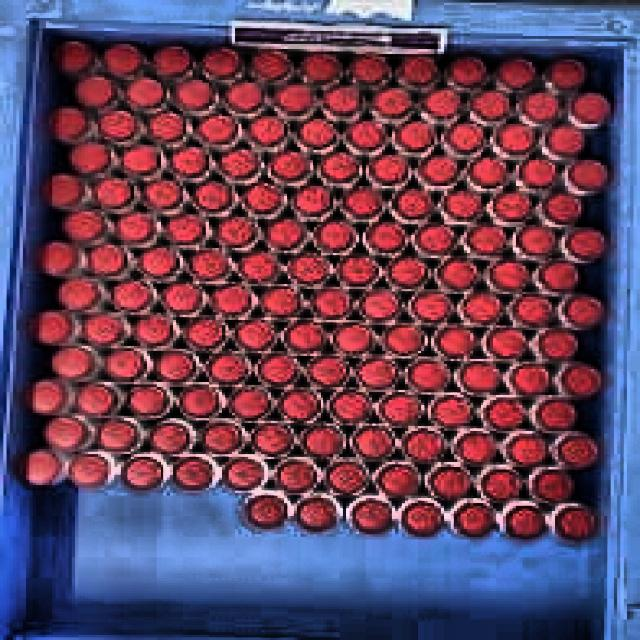vial: (478, 465, 526, 504), (401, 425, 446, 464), (40, 414, 87, 451), (40, 171, 83, 211), (29, 307, 73, 346), (47, 345, 96, 380), (147, 419, 193, 456), (21, 377, 67, 414), (558, 362, 605, 398), (55, 274, 102, 310), (325, 460, 369, 498), (275, 456, 319, 494), (317, 148, 362, 185), (60, 208, 107, 243), (378, 392, 425, 427), (222, 455, 265, 493), (560, 294, 608, 328), (445, 52, 490, 88), (366, 150, 411, 186), (102, 348, 147, 384), (494, 120, 540, 155), (33, 239, 75, 277), (378, 462, 420, 500), (390, 184, 433, 221), (566, 224, 609, 261), (557, 433, 600, 470), (371, 84, 415, 120), (188, 247, 232, 283), (485, 326, 529, 362), (210, 283, 254, 319), (243, 494, 287, 530), (402, 501, 446, 537), (428, 393, 473, 428), (137, 177, 183, 211), (216, 146, 262, 180), (86, 241, 128, 278), (19, 448, 61, 485), (66, 141, 113, 174), (322, 82, 365, 118), (423, 86, 466, 122), (453, 502, 496, 538), (280, 386, 323, 422), (168, 143, 212, 178), (486, 257, 530, 292), (505, 431, 549, 466), (483, 397, 527, 432), (121, 456, 165, 491), (268, 149, 313, 183), (261, 216, 306, 250), (533, 326, 578, 360), (457, 360, 502, 394), (356, 356, 401, 390), (231, 317, 276, 351), (204, 351, 249, 385), (82, 314, 127, 348), (46, 105, 85, 144), (432, 325, 478, 358), (124, 384, 170, 417), (520, 88, 561, 125), (295, 496, 336, 533), (538, 396, 580, 432), (228, 385, 270, 421), (123, 74, 166, 109), (197, 112, 240, 147), (190, 179, 233, 214), (364, 218, 407, 253), (256, 352, 299, 387), (201, 420, 244, 455), (173, 77, 217, 111), (244, 115, 288, 149), (286, 251, 330, 285), (409, 289, 453, 323), (108, 279, 152, 313), (178, 385, 222, 419), (95, 418, 139, 452), (429, 464, 470, 500), (349, 427, 395, 459), (349, 51, 391, 86), (241, 180, 283, 215), (165, 212, 207, 247), (200, 44, 243, 78), (119, 142, 162, 176), (215, 213, 258, 247), (237, 251, 280, 285), (440, 187, 483, 221), (545, 54, 588, 88), (568, 156, 611, 190), (383, 324, 426, 358), (309, 285, 352, 319), (261, 285, 304, 319), (172, 457, 215, 491), (516, 157, 560, 190), (307, 353, 351, 386), (185, 317, 229, 350), (277, 81, 316, 118), (446, 119, 486, 155), (504, 504, 544, 540), (147, 109, 188, 144), (252, 45, 294, 79), (385, 256, 427, 290), (529, 467, 571, 501), (250, 422, 292, 456), (539, 260, 582, 293), (495, 56, 538, 89), (357, 288, 400, 321), (418, 152, 462, 184), (339, 187, 383, 219), (569, 90, 613, 122), (398, 52, 437, 88), (347, 117, 387, 152), (395, 119, 435, 154), (302, 424, 342, 459), (329, 390, 369, 425), (331, 323, 376, 354), (99, 107, 140, 141), (460, 290, 501, 324), (311, 218, 353, 251), (436, 257, 478, 290), (285, 319, 327, 352), (407, 360, 450, 392), (354, 498, 392, 534), (69, 454, 109, 488), (52, 40, 93, 73), (74, 76, 115, 109), (299, 51, 341, 83), (292, 183, 334, 215), (458, 430, 496, 465), (226, 80, 265, 114), (416, 221, 455, 255), (152, 42, 192, 75), (93, 174, 133, 207), (468, 154, 508, 187), (101, 43, 142, 75), (139, 246, 180, 278), (465, 223, 506, 255), (541, 192, 583, 223), (153, 351, 195, 382), (298, 116, 336, 150), (545, 125, 585, 157), (492, 190, 532, 222), (510, 363, 551, 394), (339, 254, 378, 286), (163, 283, 203, 314), (513, 292, 551, 324), (135, 315, 173, 347), (555, 508, 594, 539), (471, 88, 511, 118), (116, 211, 153, 243), (77, 384, 114, 416), (517, 225, 554, 256)
